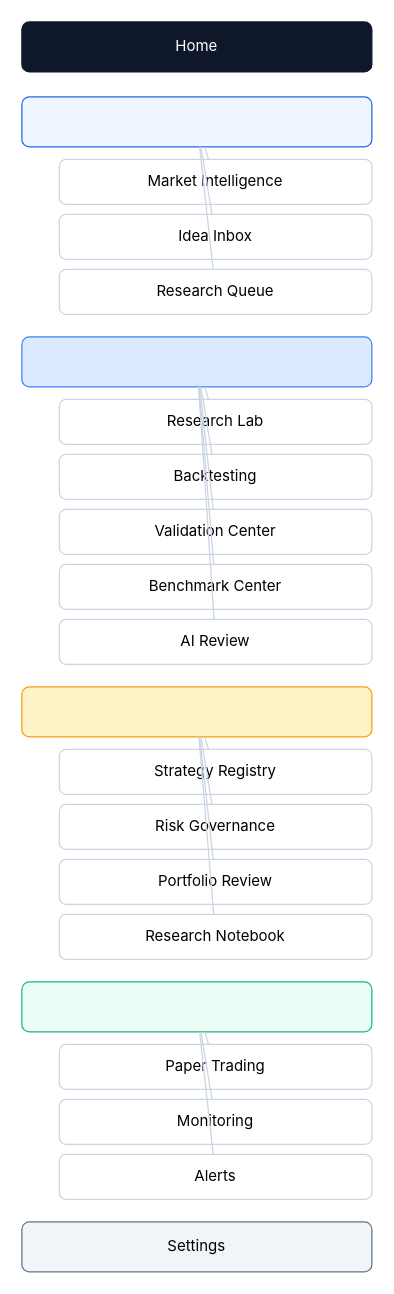
The diagram is 394 pixels wide and 1294 high, and some of its shapes have lost their labels. The centre of each missing label's shape, as x and y in pixels:
"▾ Discover" goes at [196,121].
"▾ Govern" goes at [196,711].
"▾ Operate" goes at [196,1006].
"▾ Research" goes at [196,361].
